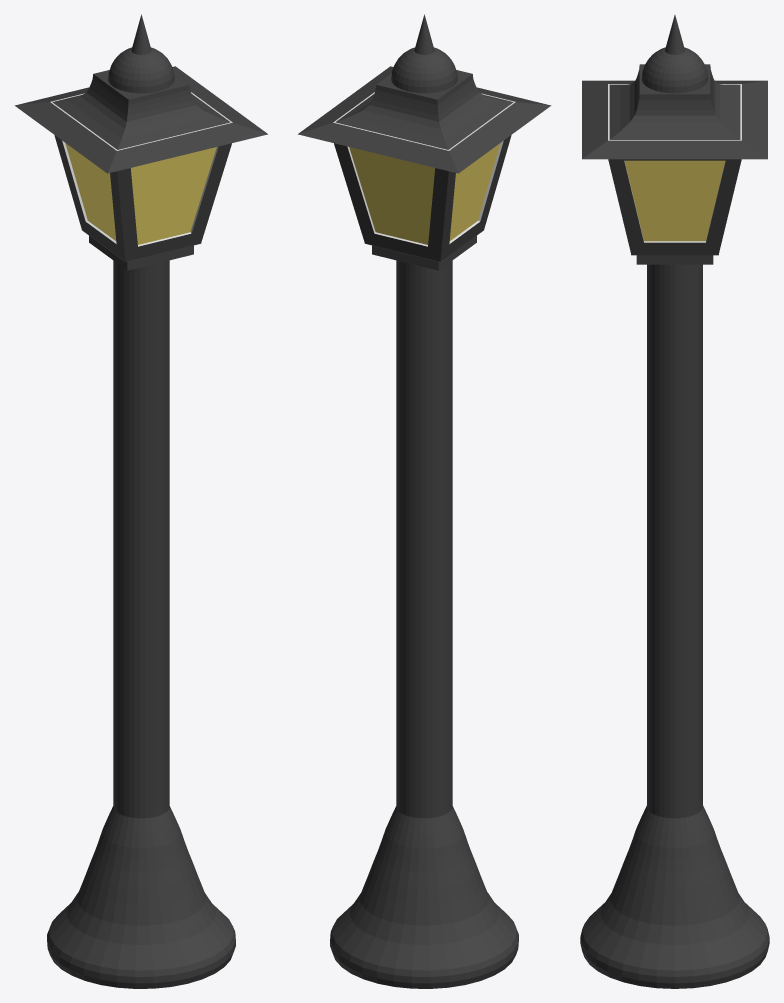
File: lightpost.fbx
3 views of the same model, side by side, from view 1: azimuth 30°, elevation 25°; view 2: azimuth 150°, elevation 25°; view 3: azimuth 270°, elevation 25° (orthographic).
Parts seen in each view (by area): view 1: Cylinder; view 2: Cylinder; view 3: Cylinder.
Part boxes in pixels (x1,y1,x2,y2): Cylinder: (14,14,267,988); Cylinder: (298,14,551,988); Cylinder: (580,15,769,988).
Bounding box in the file's own units: 369 × 2013 × 369.
